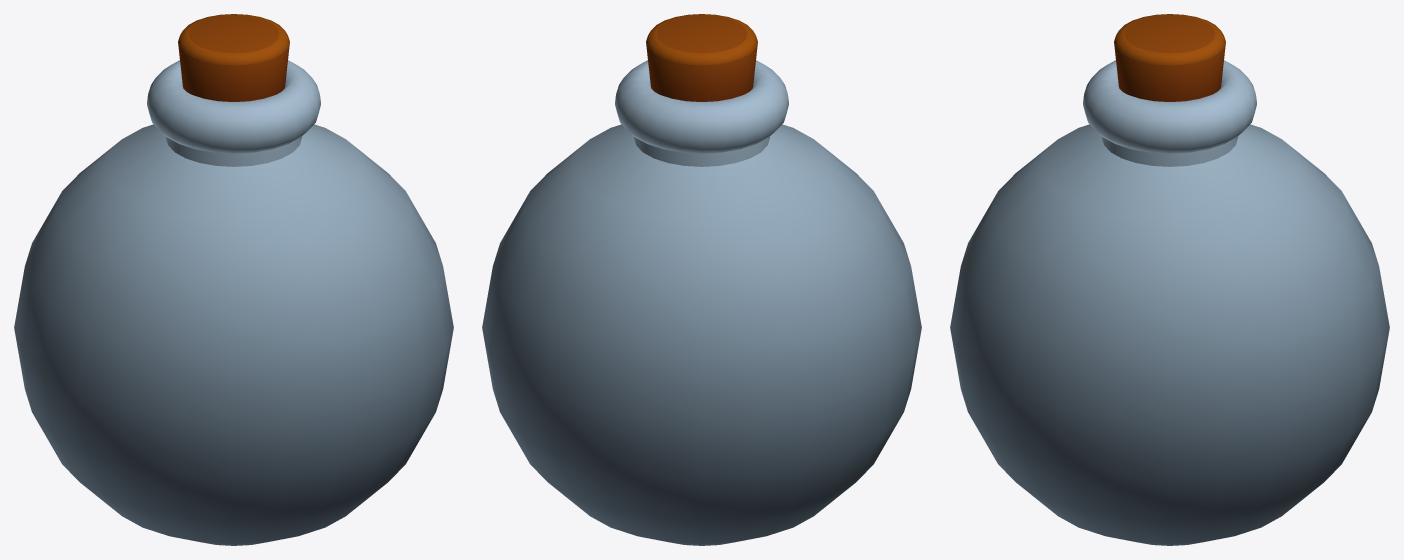
The model's file is Potion_V1_0.fbx.
The picture shows the model from 3 angles, left to right: view 1: azimuth 30°, elevation 25°; view 2: azimuth 150°, elevation 25°; view 3: azimuth 270°, elevation 25°; orthographic projection.
Visible parts, largest first — view 1: Potion_V1_0; view 2: Potion_V1_0; view 3: Potion_V1_0.
Boxes of the visible parts, x1,y1,x2,y2 form: Potion_V1_0: (14,14,453,545); Potion_V1_0: (482,14,921,545); Potion_V1_0: (950,14,1389,545).
Size of the model in its own units: 0.3962 by 0.49 by 0.3962.
